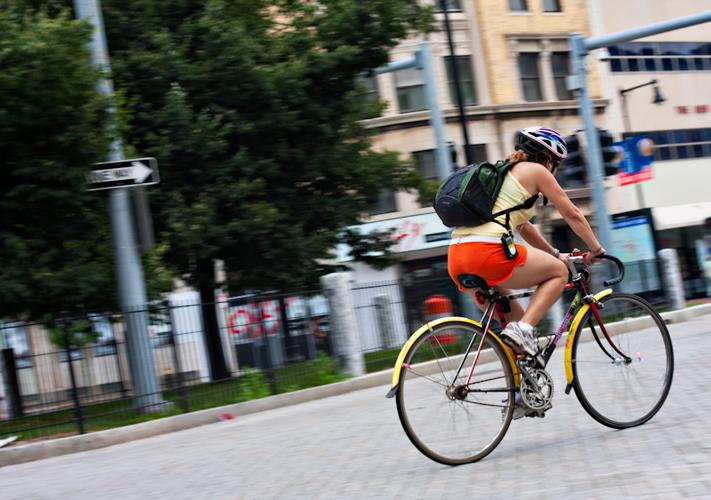person: (447, 127, 610, 421)
